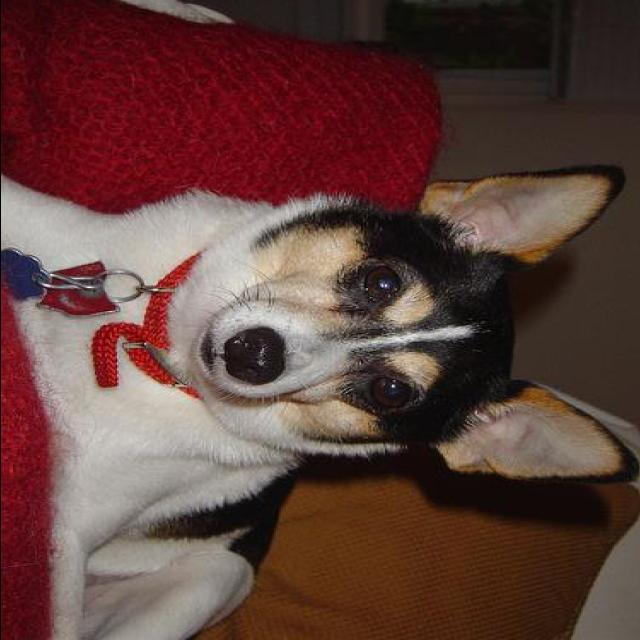toy_terrier: (2, 170, 640, 640)
